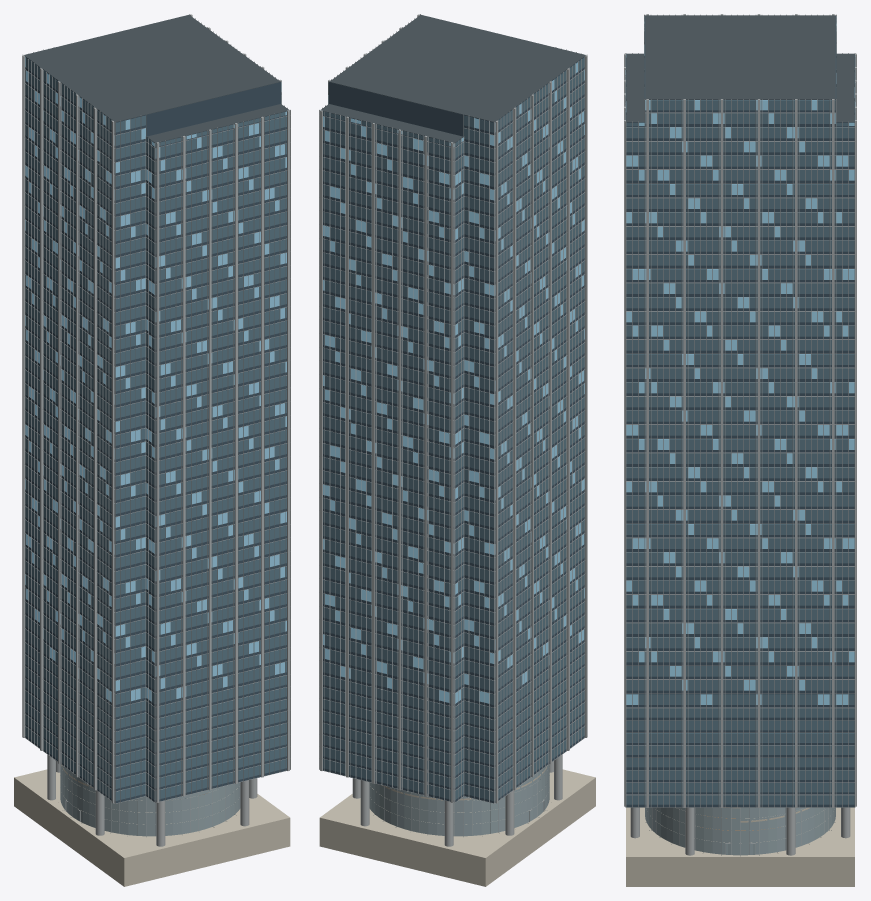
File: wacker_111.glb
The picture shows the model from 3 angles, left to right: view 1: azimuth 30°, elevation 25°; view 2: azimuth 150°, elevation 25°; view 3: azimuth 270°, elevation 25°; orthographic projection. The views are drawn at different scales.
Visible parts, largest first — view 1: Blue grey curtain glass, Stainless V mullions and round columns, Dark curtain spandrels, Night occupied curtain glass, Mechanical louvers and dark paving joints, White marble core and pale granite paving, Clear curved cable lobby glazing; view 2: Blue grey curtain glass, Stainless V mullions and round columns, Dark curtain spandrels, Night occupied curtain glass, Mechanical louvers and dark paving joints, White marble core and pale granite paving, Clear curved cable lobby glazing; view 3: Blue grey curtain glass, Stainless V mullions and round columns, Dark curtain spandrels, Mechanical louvers and dark paving joints, Night occupied curtain glass, White marble core and pale granite paving, Clear curved cable lobby glazing.
Boxes of the visible parts, x1,y1,x2,y2 form: Blue grey curtain glass: (25, 58, 286, 800); Stainless V mullions and round columns: (22, 14, 290, 846); Dark curtain spandrels: (25, 56, 286, 803); Night occupied curtain glass: (25, 57, 286, 702); Mechanical louvers and dark paving joints: (24, 15, 289, 836); White marble core and pale granite paving: (14, 764, 290, 886); Clear curved cable lobby glazing: (60, 764, 240, 836); Blue grey curtain glass: (323, 57, 584, 800); Stainless V mullions and round columns: (319, 14, 587, 846); Dark curtain spandrels: (323, 56, 584, 803); Night occupied curtain glass: (323, 62, 584, 703); Mechanical louvers and dark paving joints: (320, 15, 585, 836); White marble core and pale granite paving: (319, 765, 595, 886); Clear curved cable lobby glazing: (369, 764, 549, 836); Blue grey curtain glass: (625, 16, 855, 804); Stainless V mullions and round columns: (624, 14, 856, 855); Dark curtain spandrels: (626, 16, 854, 807); Mechanical louvers and dark paving joints: (626, 15, 854, 856); Night occupied curtain glass: (625, 21, 855, 704); White marble core and pale granite paving: (626, 807, 854, 886); Clear curved cable lobby glazing: (645, 807, 835, 855).
Bounding box in the file's own units: 50.35 × 216 × 57.75.
